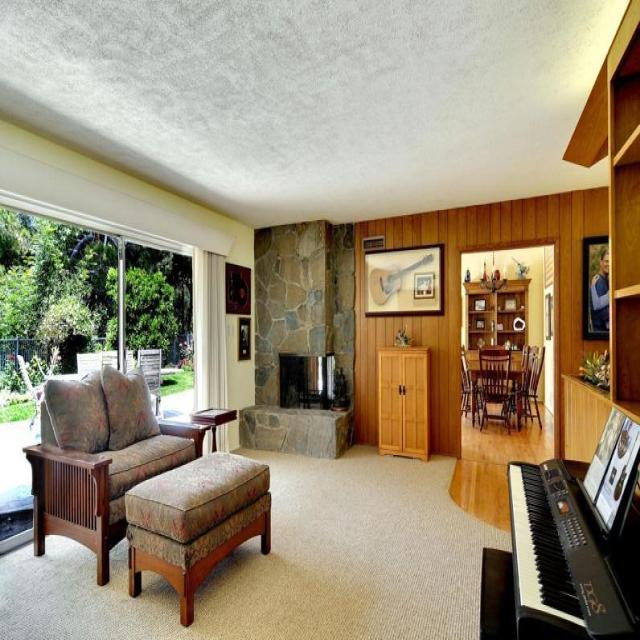cupboard: (462, 276, 532, 374), (375, 345, 431, 461)
curtains: (190, 246, 228, 452)
plants: (104, 263, 179, 365)
rugs: (0, 441, 512, 639)
sofa: (22, 362, 196, 586)
window: (0, 191, 205, 551)
